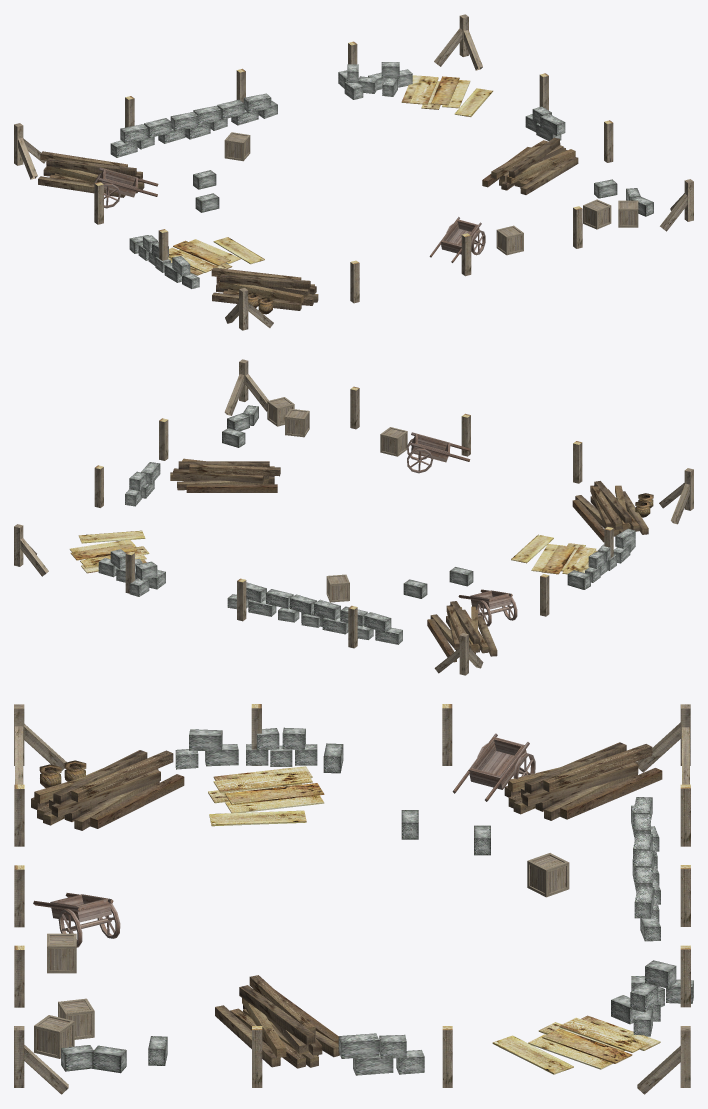
File: fndn_8x7.glb
3 renders of one model, top to bottom at view 1: azimuth 30°, elevation 25°; view 2: azimuth 150°, elevation 25°; view 3: azimuth 270°, elevation 25°, orthographic. The views are drawn at different scales.
Visible parts, largest first — view 1: fndn_8x7_part2, fndn_8x7_part3, fndn_8x7_part1, fndn_8x7_part38, fndn_8x7_part34, fndn_8x7_part35, fndn_8x7_part39, fndn_8x7_part30, fndn_8x7_part5, fndn_8x7_part4, fndn_8x7_part11, fndn_8x7_part32 (+9 smaller); view 2: fndn_8x7_part3, fndn_8x7_part2, fndn_8x7_part1, fndn_8x7_part35, fndn_8x7_part39, fndn_8x7_part34, fndn_8x7_part38, fndn_8x7_part30, fndn_8x7_part5, fndn_8x7_part4, fndn_8x7_part10, fndn_8x7_part33 (+9 smaller); view 3: fndn_8x7_part1, fndn_8x7_part2, fndn_8x7_part3, fndn_8x7_part39, fndn_8x7_part38, fndn_8x7_part30, fndn_8x7_part33, fndn_8x7_part4, fndn_8x7_part5, fndn_8x7_part34, fndn_8x7_part32, fndn_8x7_part7 (+20 smaller).
Boxes of the visible parts, <box> form: fndn_8x7_part2: <box>211,267,318,310</box>; fndn_8x7_part3: <box>482,137,578,194</box>; fndn_8x7_part1: <box>38,151,144,197</box>; fndn_8x7_part38: <box>401,75,493,116</box>; fndn_8x7_part34: <box>185,93,277,139</box>; fndn_8x7_part35: <box>110,112,198,157</box>; fndn_8x7_part39: <box>168,237,264,275</box>; fndn_8x7_part30: <box>138,235,199,288</box>; fndn_8x7_part5: <box>429,217,485,262</box>; fndn_8x7_part4: <box>94,167,158,208</box>; fndn_8x7_part11: <box>434,14,482,70</box>; fndn_8x7_part32: <box>368,62,412,96</box>; fndn_8x7_part3: <box>170,458,280,492</box>; fndn_8x7_part2: <box>572,481,648,542</box>; fndn_8x7_part1: <box>427,601,497,662</box>; fndn_8x7_part35: <box>301,599,402,644</box>; fndn_8x7_part39: <box>511,534,597,574</box>; fndn_8x7_part34: <box>227,582,324,626</box>; fndn_8x7_part38: <box>69,530,149,573</box>; fndn_8x7_part30: <box>585,528,635,582</box>; fndn_8x7_part5: <box>407,432,470,473</box>; fndn_8x7_part4: <box>458,589,517,626</box>; fndn_8x7_part10: <box>224,359,268,415</box>; fndn_8x7_part33: <box>125,462,160,506</box>; fndn_8x7_part1: <box>504,742,662,820</box>; fndn_8x7_part2: <box>31,750,184,830</box>; fndn_8x7_part3: <box>215,975,339,1068</box>; fndn_8x7_part39: <box>208,766,324,826</box>; fndn_8x7_part38: <box>492,1015,660,1074</box>; fndn_8x7_part30: <box>175,727,317,769</box>; fndn_8x7_part33: <box>338,1033,424,1075</box>; fndn_8x7_part4: <box>452,733,535,801</box>; fndn_8x7_part5: <box>33,893,120,947</box>; fndn_8x7_part34: <box>632,850,660,941</box>; fndn_8x7_part32: <box>611,982,660,1036</box>; fndn_8x7_part7: <box>527,853,569,897</box>.
Bounding box in the file's own units: 6.87 × 0.971 × 6.
4 materials, 4 textured.
